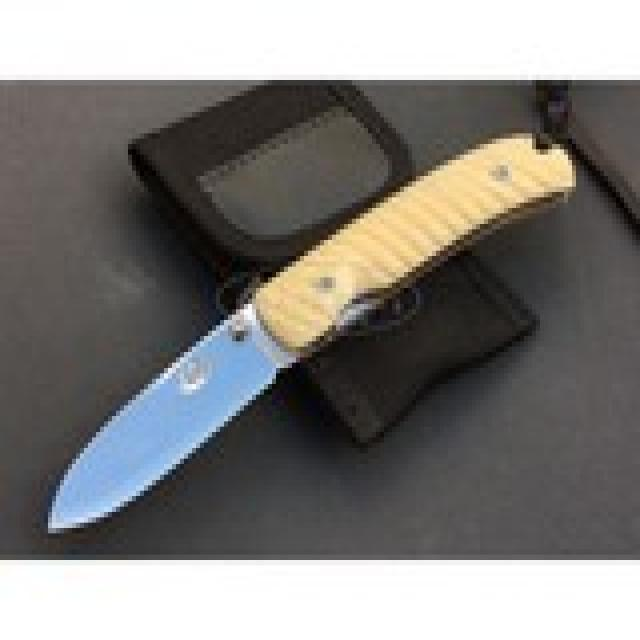Knife: (31, 125, 570, 540)
